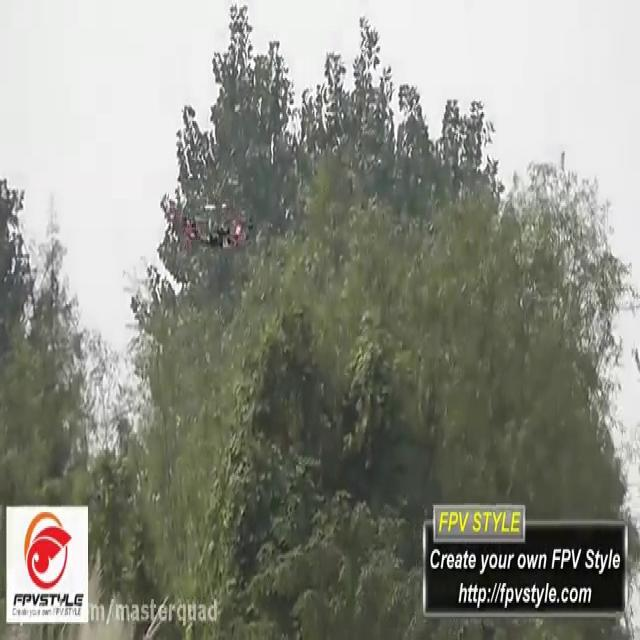drone: (164, 199, 257, 256)
